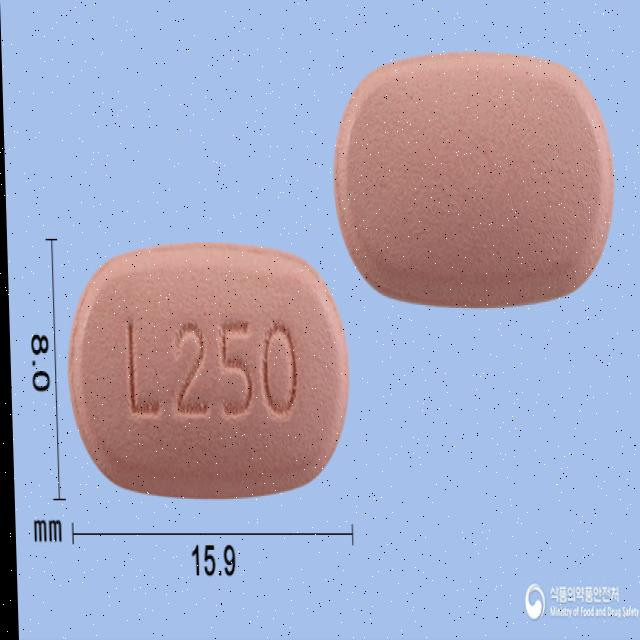Levoby: (63, 239, 350, 497)
